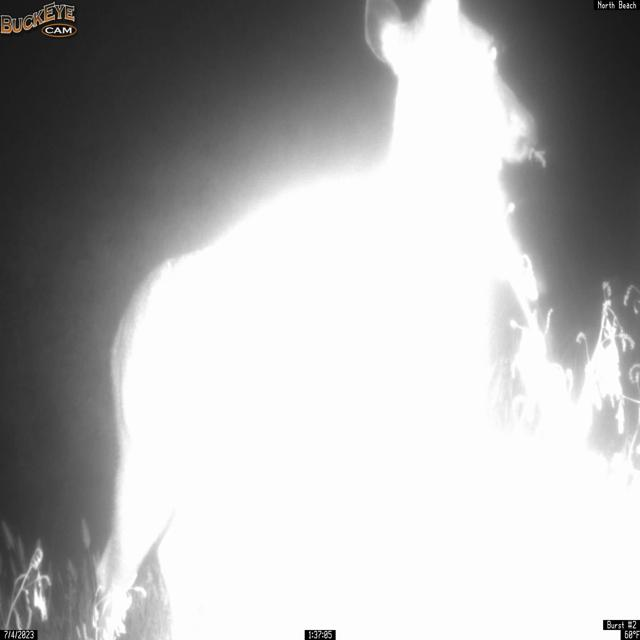deer: (91, 6, 538, 616)
